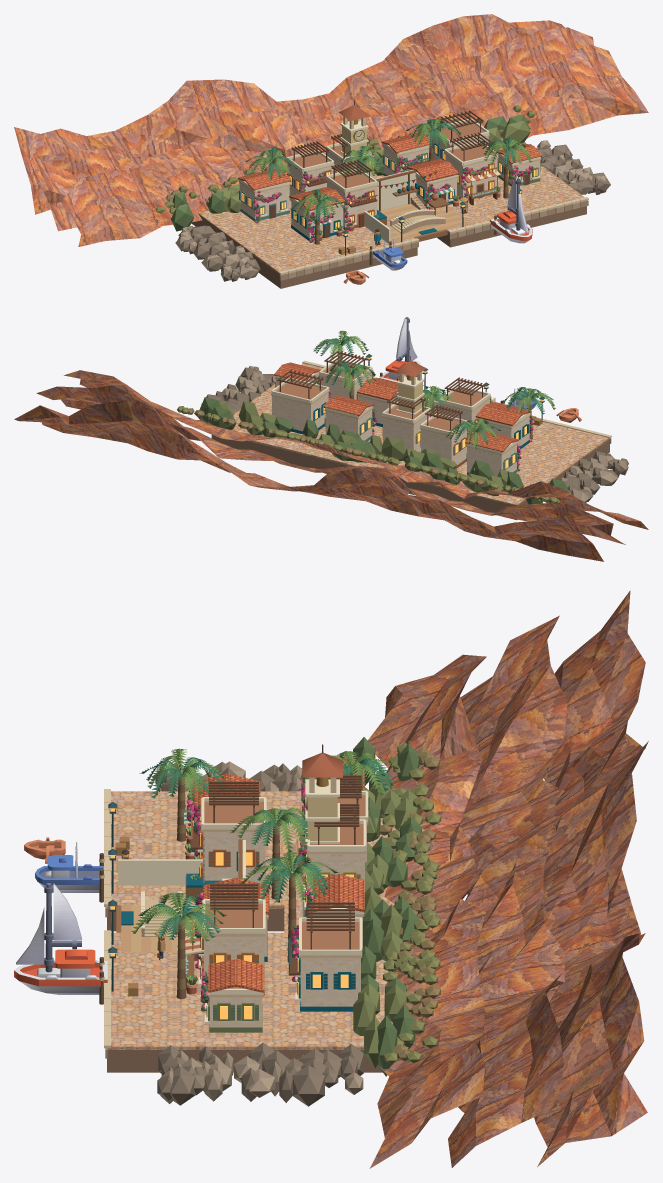
File: mogan.glb
3 renders of one model, top to bottom at view 1: azimuth 30°, elevation 25°; view 2: azimuth 150°, elevation 25°; view 3: azimuth 270°, elevation 25°, orthographic. The views are drawn at different scales.
Parts seen in each view (by area): view 1: Puerto, Casa, boat-sail-a, sail, boat-fishing-small; view 2: Puerto, sail; view 3: Puerto, Casa, boat-sail-a, sail, boat-fishing-small.
Boxes of the visible parts, x1,y1,x2,y2 form: Puerto: [14, 14, 648, 288]; Casa: [364, 169, 469, 243]; boat-sail-a: [490, 210, 532, 243]; sail: [507, 177, 528, 232]; boat-fishing-small: [372, 238, 407, 270]; Puerto: [14, 330, 648, 561]; sail: [396, 317, 417, 362]; Puerto: [99, 590, 648, 1168]; Casa: [116, 839, 245, 952]; boat-sail-a: [14, 949, 107, 994]; sail: [16, 883, 81, 972]; boat-fishing-small: [35, 842, 103, 892].
Size of the model in its own units: 55.52 by 10.36 by 31.52.
41 materials, 7 textured.
